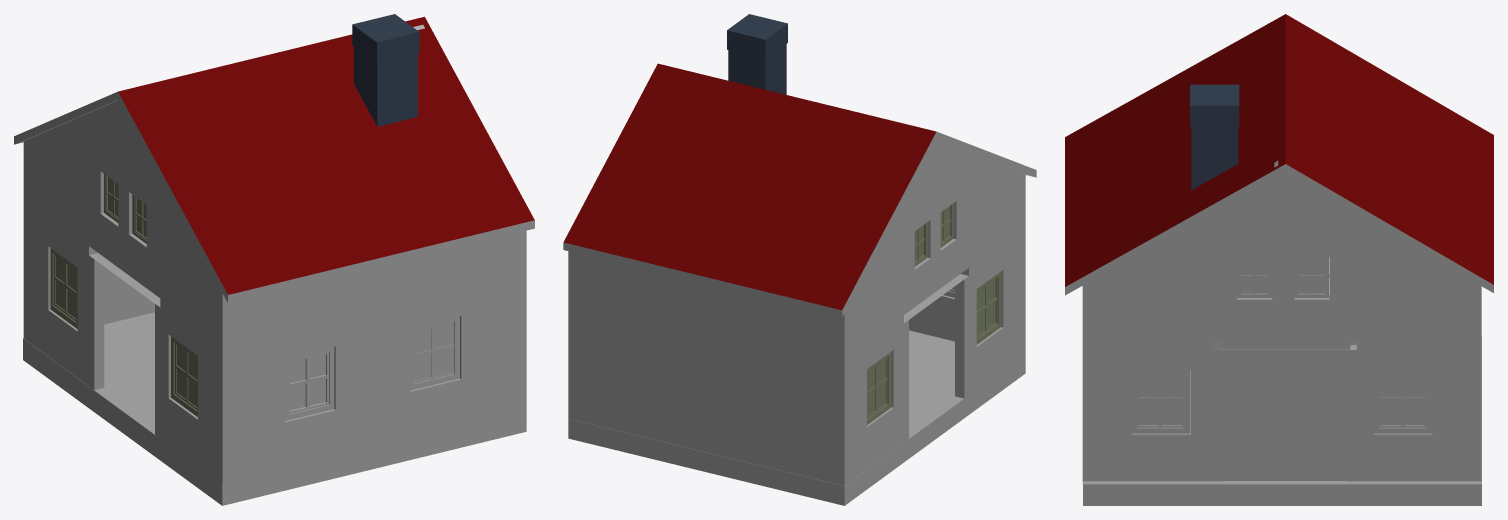
File: house.fbx
3 views of the same model, side by side, from view 1: azimuth 30°, elevation 25°; view 2: azimuth 150°, elevation 25°; view 3: azimuth 270°, elevation 25° (orthographic). The views are drawn at different scales.
Visible parts, largest first — view 1: polySurface68, polySurface64, polySurface67, polySurface66, polySurface46, polySurface55, polySurface56, polySurface61; view 2: polySurface68, polySurface64, polySurface67, polySurface66, polySurface46, polySurface55, polySurface61, polySurface56; view 3: polySurface68, polySurface64, pCube1, polySurface67, polySurface66.
Part boxes in pixels (box(x1,y1,x2,y2)): polySurface68: box(14, 24, 534, 505); polySurface64: box(118, 16, 534, 294); polySurface67: box(354, 47, 417, 126); polySurface66: box(352, 14, 419, 63); polySurface46: box(176, 345, 197, 407); polySurface55: box(55, 256, 76, 318); polySurface56: box(50, 248, 77, 328); polySurface61: box(171, 336, 197, 416); polySurface68: box(563, 131, 1036, 505); polySurface64: box(564, 63, 936, 310); polySurface67: box(728, 44, 786, 94); polySurface66: box(727, 14, 787, 58); polySurface46: box(977, 279, 995, 335); polySurface55: box(867, 359, 885, 416); polySurface61: box(976, 271, 1001, 344); polySurface56: box(867, 352, 891, 424); polySurface68: box(1065, 160, 1493, 505); polySurface64: box(1065, 14, 1493, 286); pCube1: box(1223, 340, 1350, 480); polySurface67: box(1191, 127, 1238, 189); polySurface66: box(1190, 84, 1239, 126).
Bounding box in the file's own units: 151 × 176 × 182.
